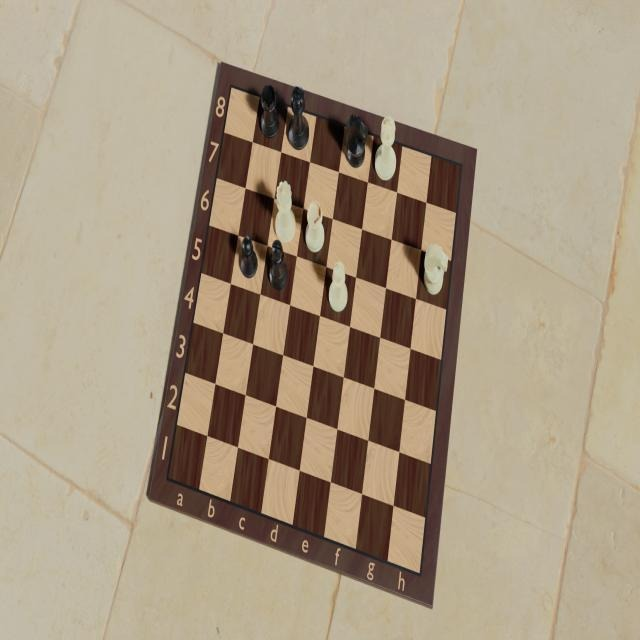black-bishop: (268, 239, 288, 291)
black-king: (288, 84, 310, 151)
black-knight: (345, 111, 369, 169)
black-pawn: (240, 235, 258, 279)
black-rook: (260, 83, 280, 139)
white-bishop: (327, 261, 348, 313)
white-king: (374, 114, 397, 182)
white-knight: (423, 243, 449, 297)
white-queen: (275, 180, 297, 244)
white-rook: (303, 199, 324, 253)
